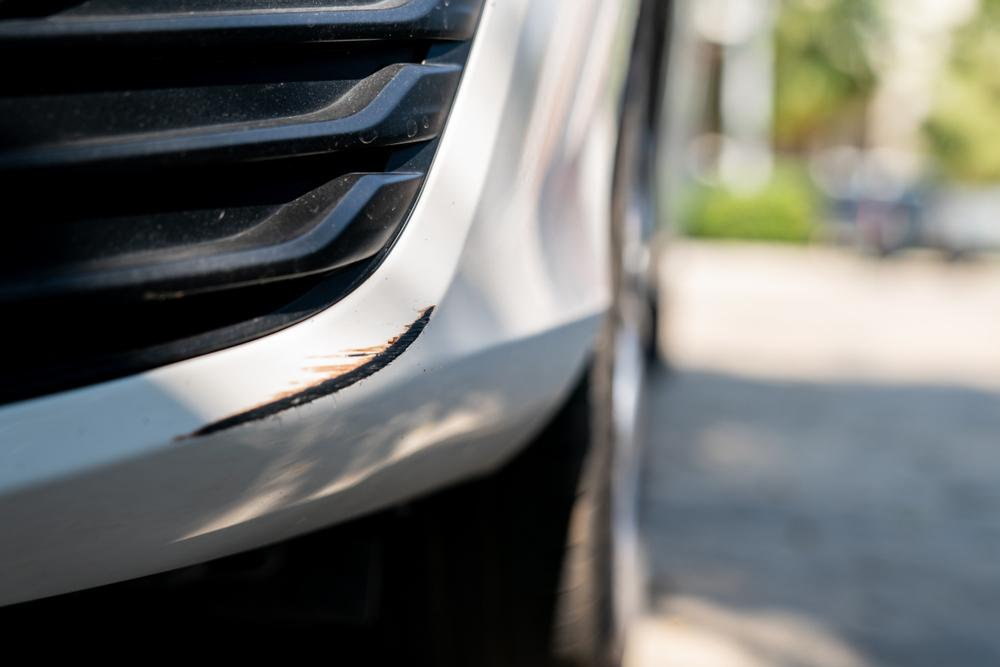scratch: (172, 300, 446, 447)
